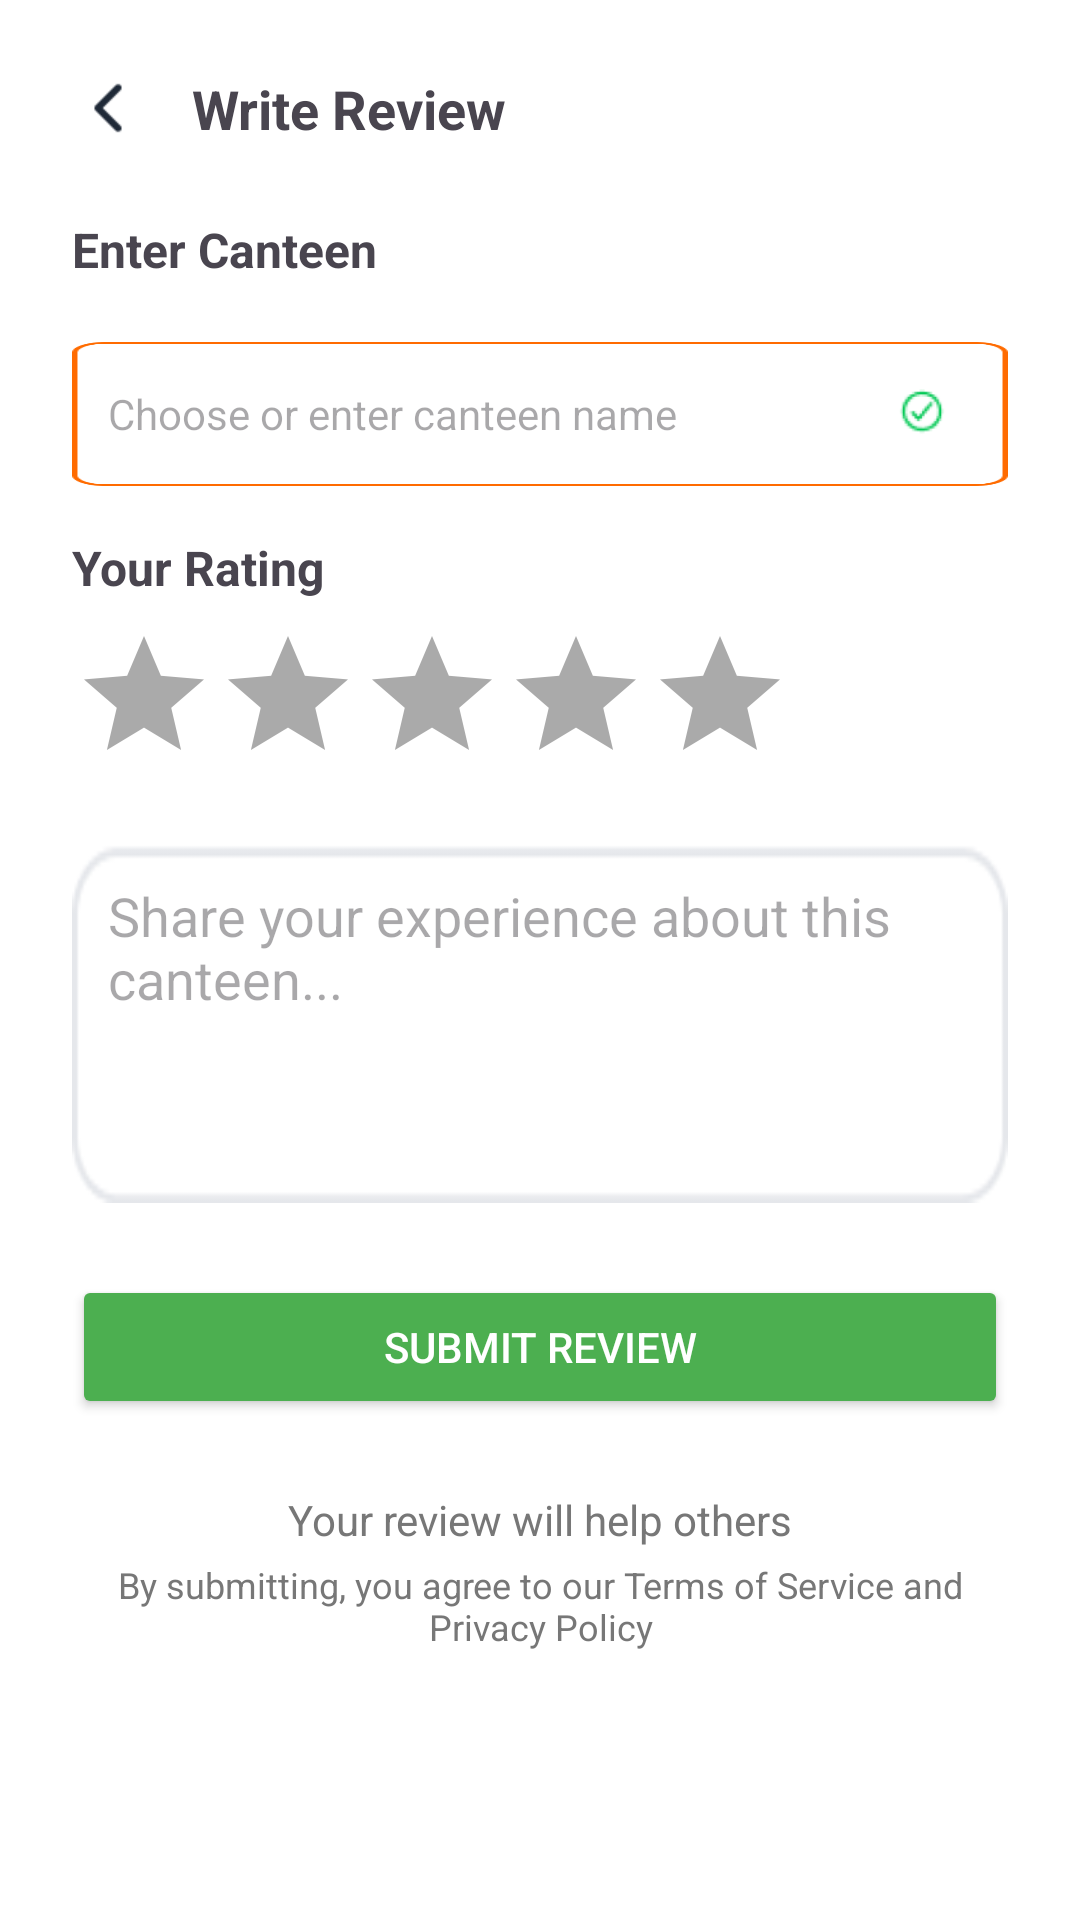

Icons on this 1080w x 1920h Android screen, each with the point to tap as [x,y]:
Back: [108,108]
Valid: [922,411]
